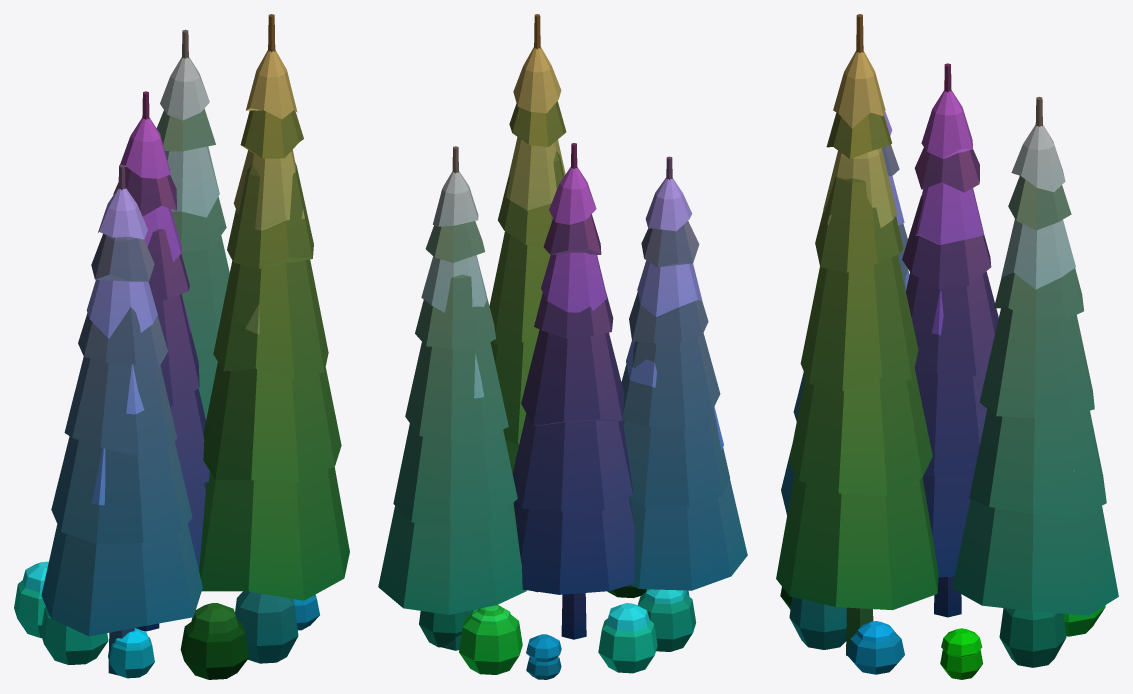
Rendered from frost_01.glb.
3 renders of one model, left to right at view 1: azimuth 30°, elevation 25°; view 2: azimuth 150°, elevation 25°; view 3: azimuth 270°, elevation 25°, orthographic. The views are drawn at different scales.
Visible parts, largest first — view 1: frost_01.002; view 2: frost_01.002; view 3: frost_01.002.
Boxes of the visible parts, bbox=[...] form: frost_01.002: bbox=[14, 14, 349, 679]; frost_01.002: bbox=[378, 14, 747, 679]; frost_01.002: bbox=[776, 14, 1118, 679].
Bounding box in the file's own units: 0.9352 × 1.93 × 0.94.
